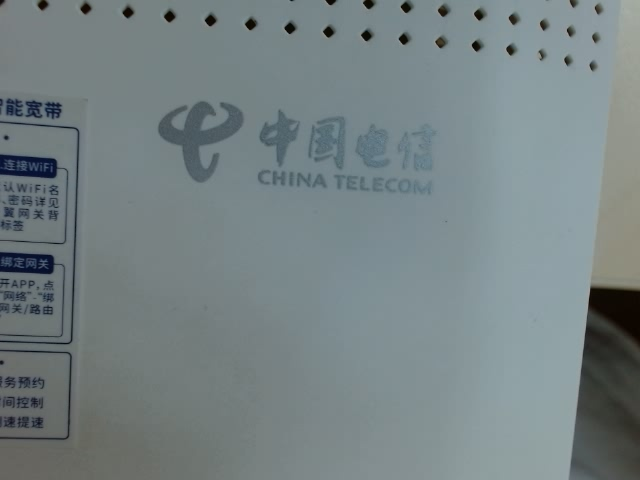ChinaTelecom1: (146, 87, 445, 206)
